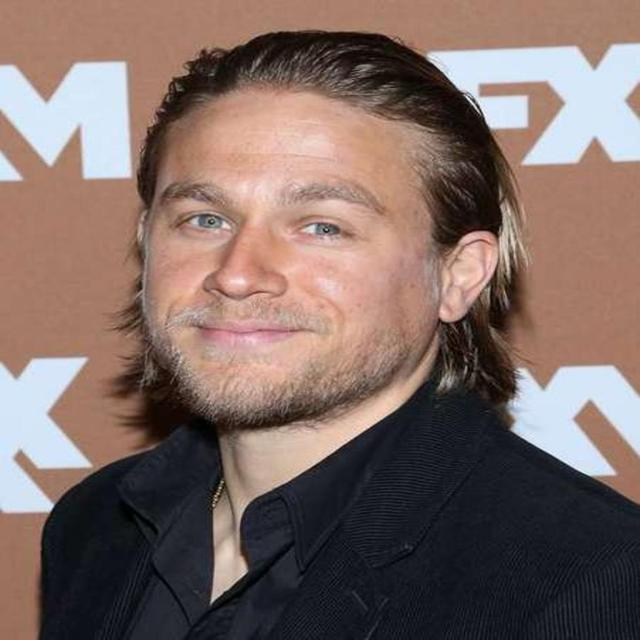Face: (137, 88, 440, 442)
